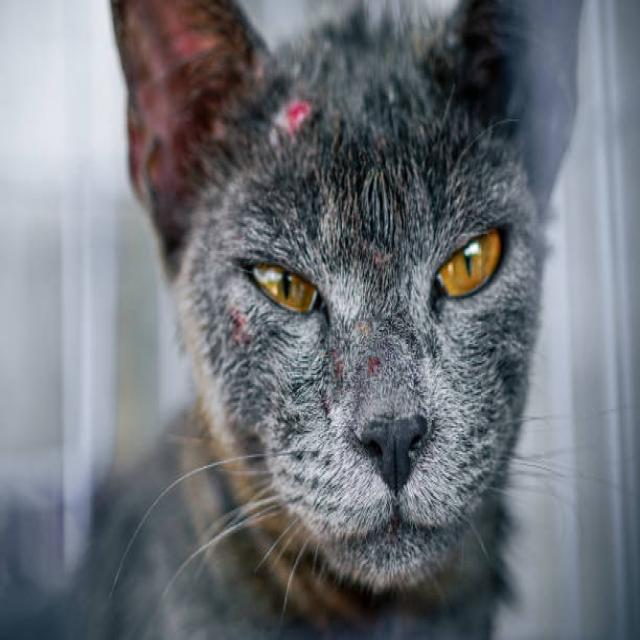cat-ringworm: (273, 95, 315, 134), (224, 306, 251, 347), (366, 350, 385, 380), (327, 345, 347, 373), (352, 311, 372, 337), (368, 241, 386, 267), (376, 130, 384, 155)
